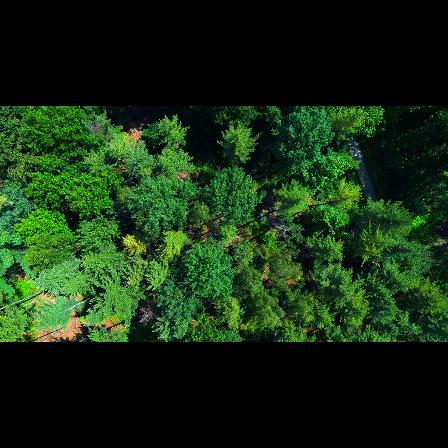Dead: (133, 299, 159, 325)
